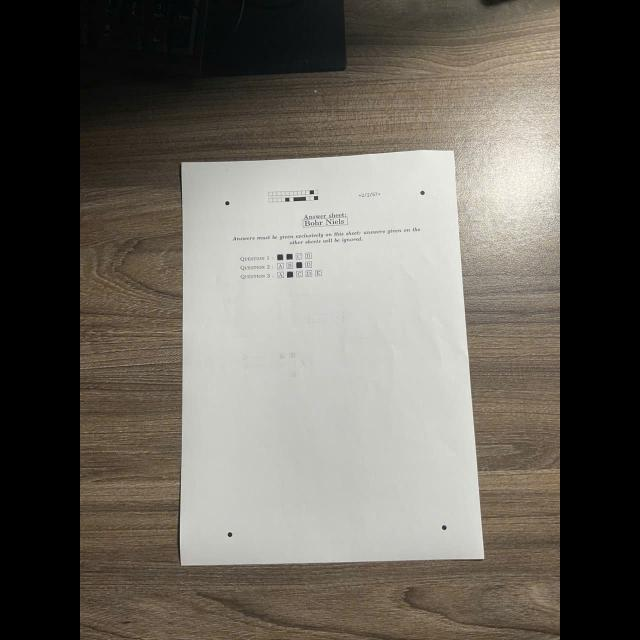Markers: (441, 525, 447, 531), (225, 200, 229, 206), (420, 190, 424, 196), (228, 532, 232, 538)
